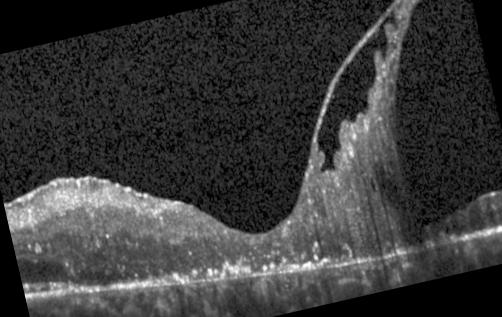intraretinal_cyst: (395, 0, 502, 224), (317, 12, 397, 170)
subretinal_fluid: (17, 256, 134, 284)
